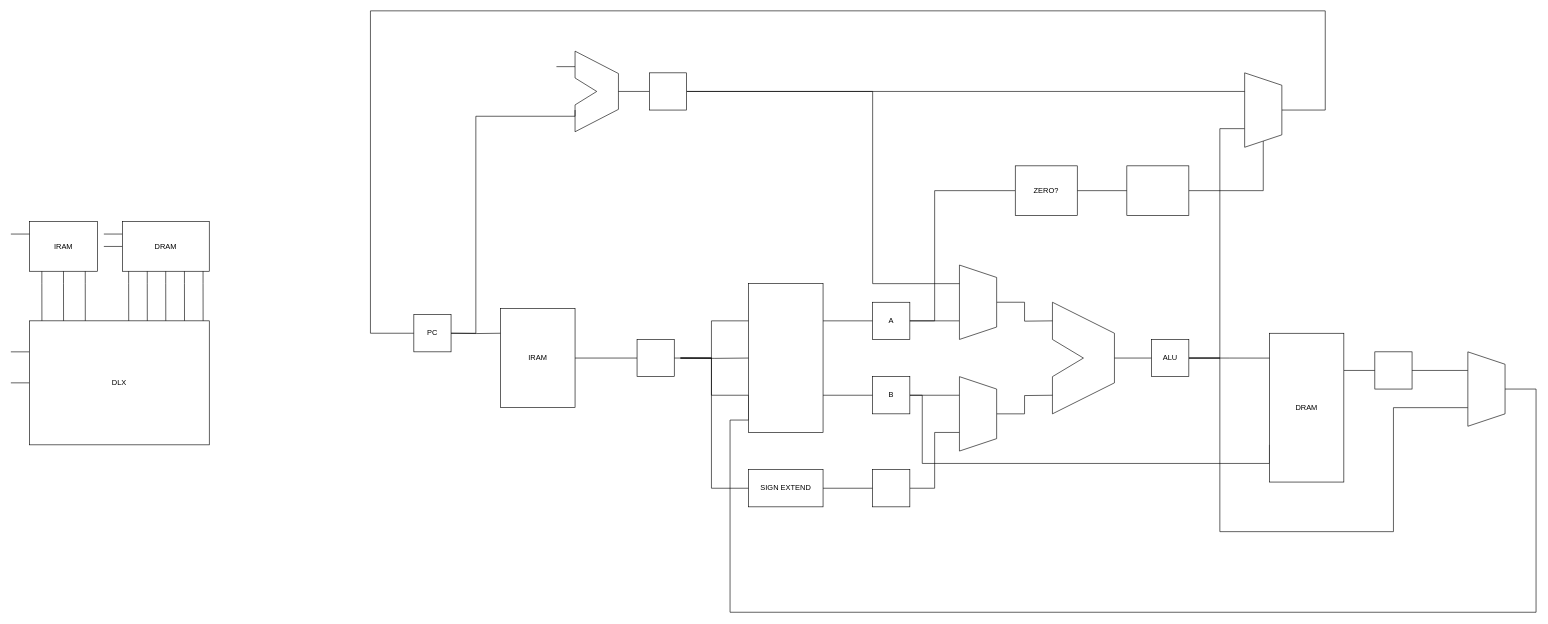
Image size: 1548x624. Some labels were removed from this diagram. Each missing label, with the box of its shape:
COND: (1126, 165, 1189, 215)
IMM: (872, 469, 910, 507)
IR: (636, 339, 674, 377)
LMD: (1374, 351, 1412, 389)
NPC: (649, 72, 687, 110)
REGISTER FILE: (748, 283, 823, 432)
